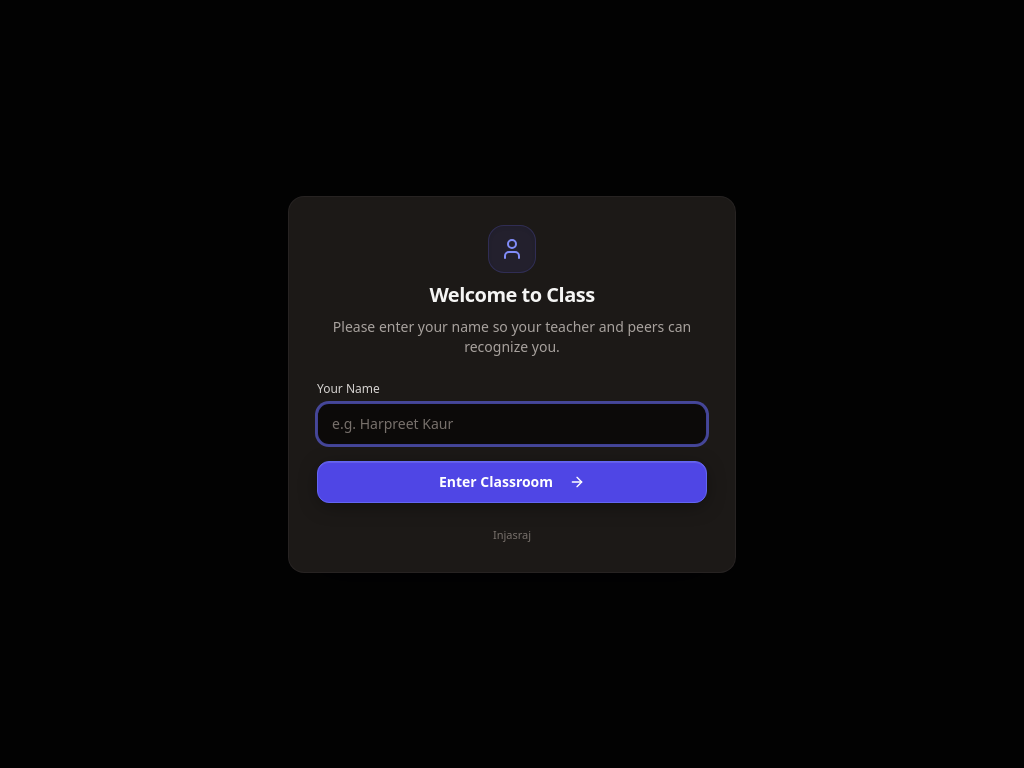
Scenario: StudentNameModal Component › shows error validation if user attempts to submit empty name
This screenshot has width=1024, height=768.
Click the button with test id "student-name-submit-btn" at [512, 482], box [317,461,707,503]
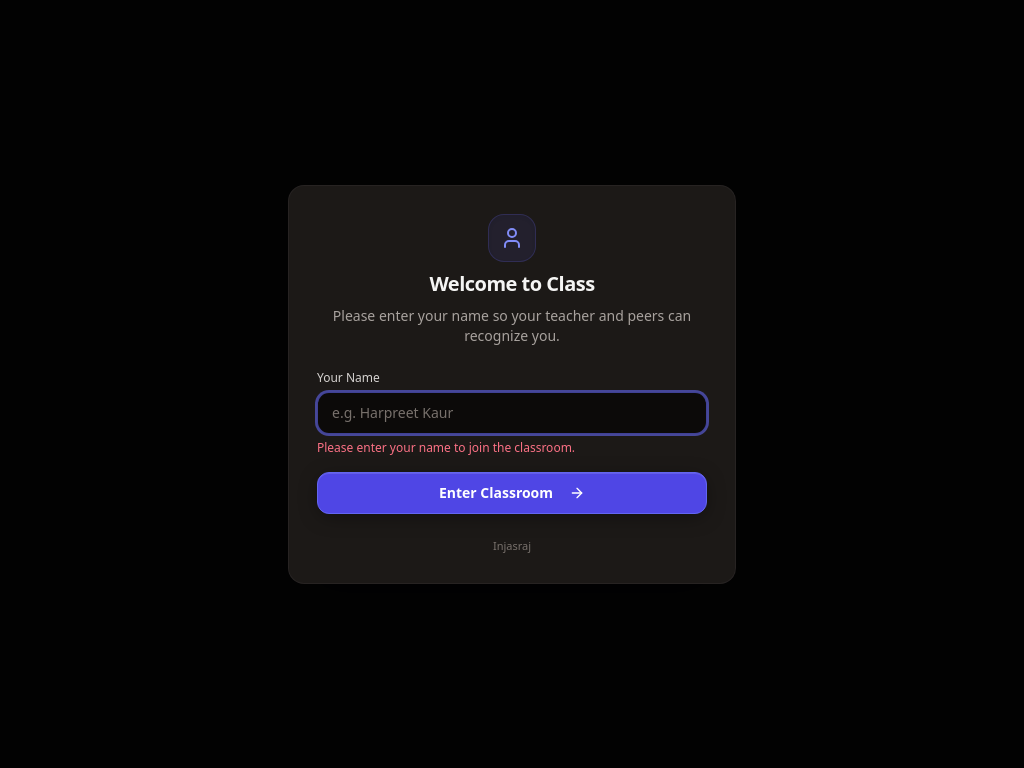
Expected: the text with test id "student-name-error" reads "Please enter your name to join the classroom.", [317,439,575,456]
